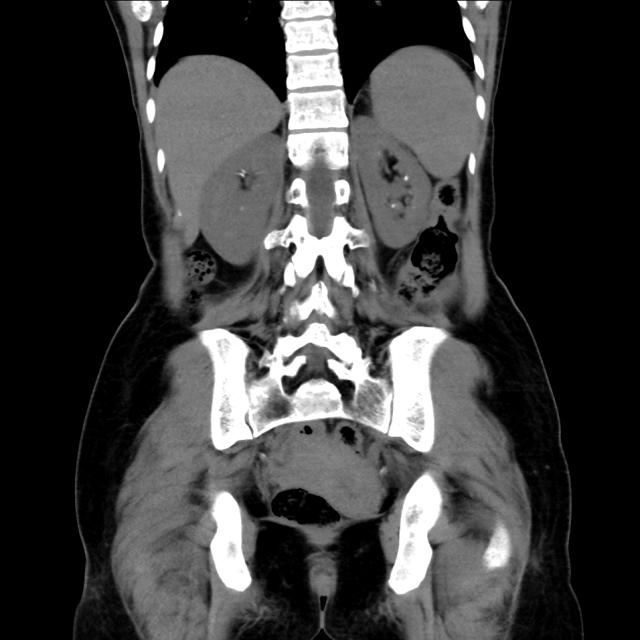kidneystone: (235, 169, 249, 178), (403, 174, 409, 181)
